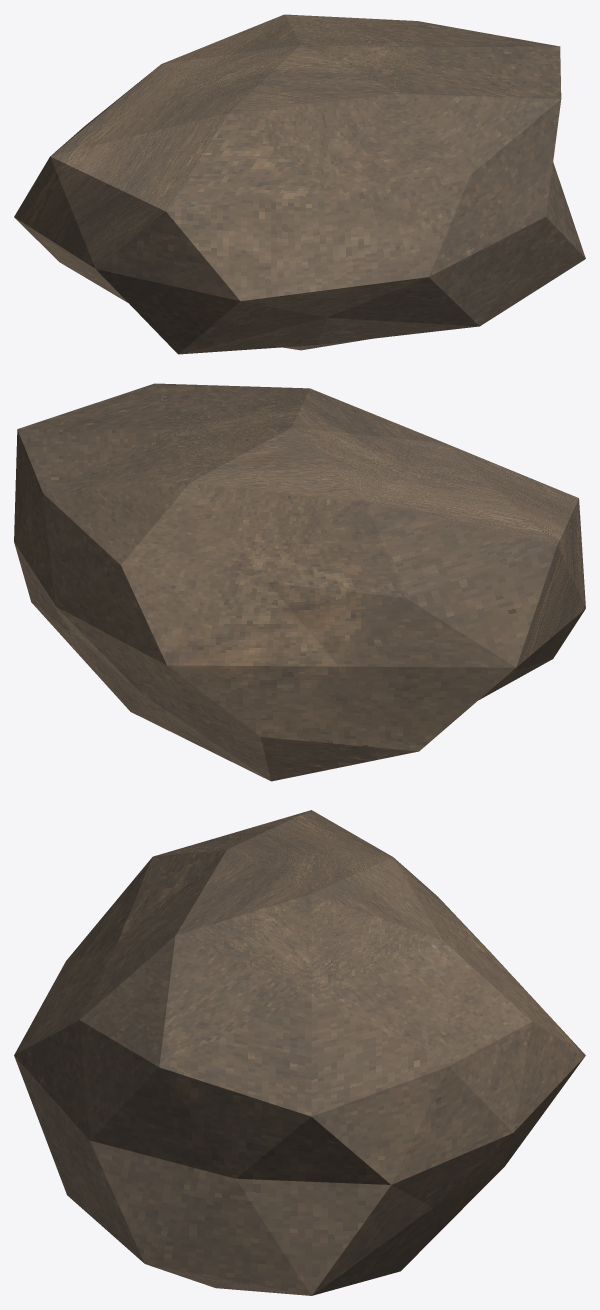
File: rock_2.glb
The picture shows the model from 3 angles, top to bottom: view 1: azimuth 30°, elevation 25°; view 2: azimuth 150°, elevation 25°; view 3: azimuth 270°, elevation 25°; orthographic projection. The views are drawn at different scales.
Visible parts, largest first — view 1: rock_2; view 2: rock_2; view 3: rock_2.
Boxes of the visible parts, box(x1,y1,x2,y2) form: rock_2: box(14, 14, 585, 354); rock_2: box(14, 383, 585, 781); rock_2: box(14, 810, 585, 1295).
Bounding box in the file's own units: 1.75 × 1 × 1.46.
Materials: 1 (1 with a texture image).
